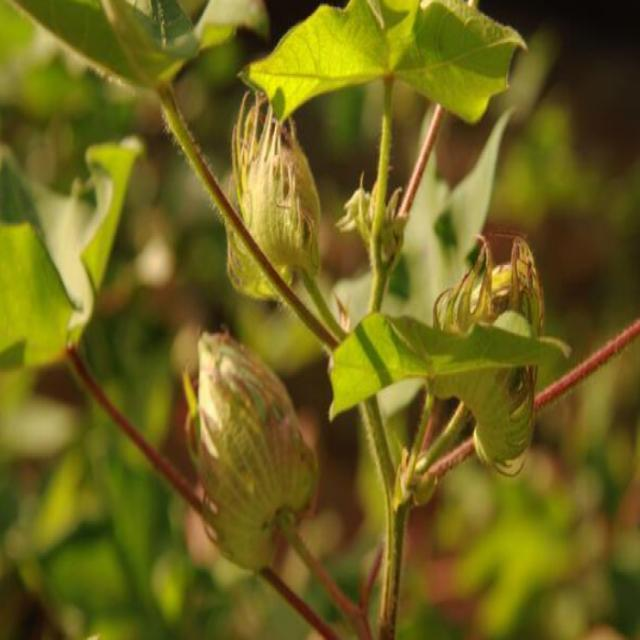Cotton Bud: (212, 104, 331, 296)
Early Boll: (182, 332, 323, 567), (434, 238, 565, 436)
